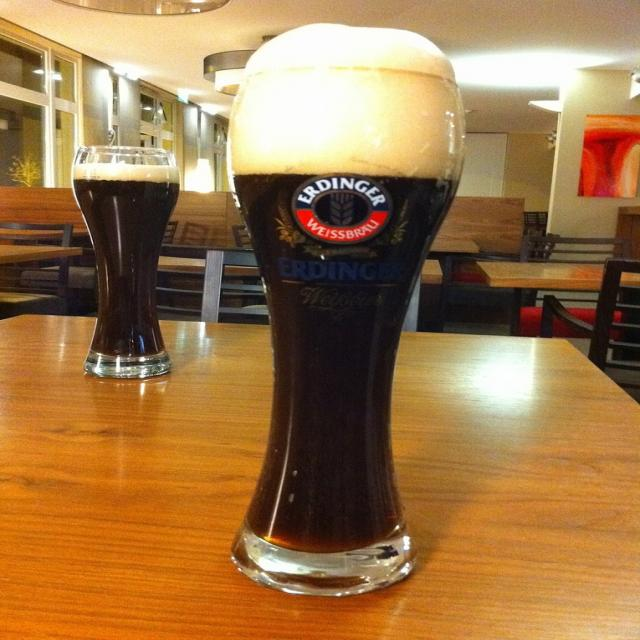erdinger: (259, 153, 424, 289)
